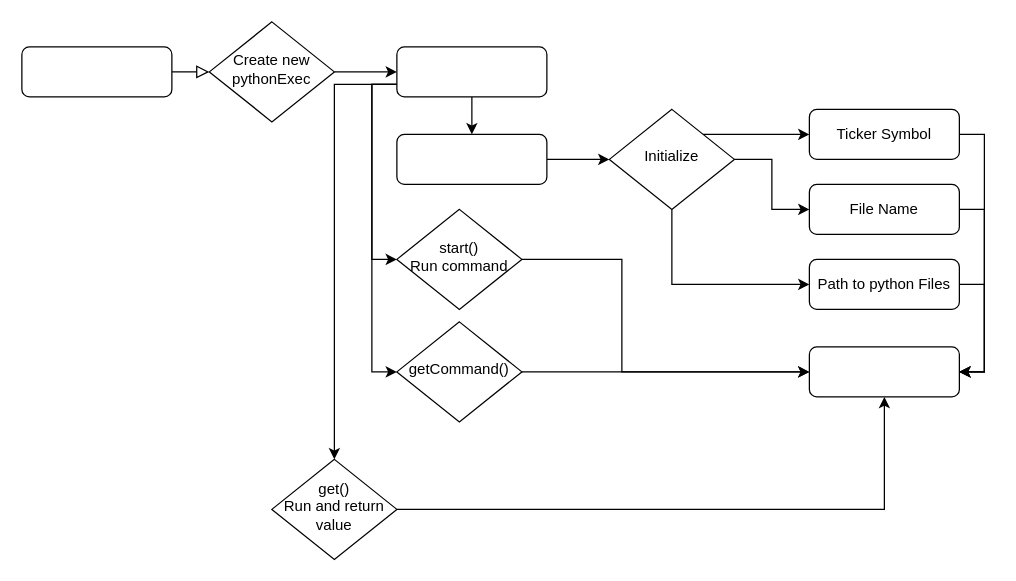
The diagram is 1016 pixels wide and 581 high, and some of its shapes have lost their labels. The shapes that lost their labels are listed below. From the top down, each one's box as (x1, y1, x2, y2) in pixels, then its label:
(21, 46, 172, 97): Test
(396, 46, 547, 97): pythonExec
(396, 133, 547, 184): Process Builder
(808, 346, 959, 397): Command
